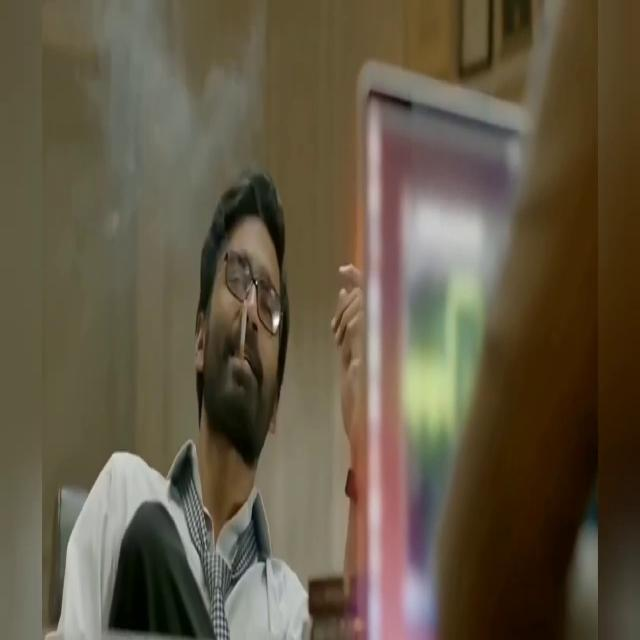smoking: (170, 219, 302, 458)
